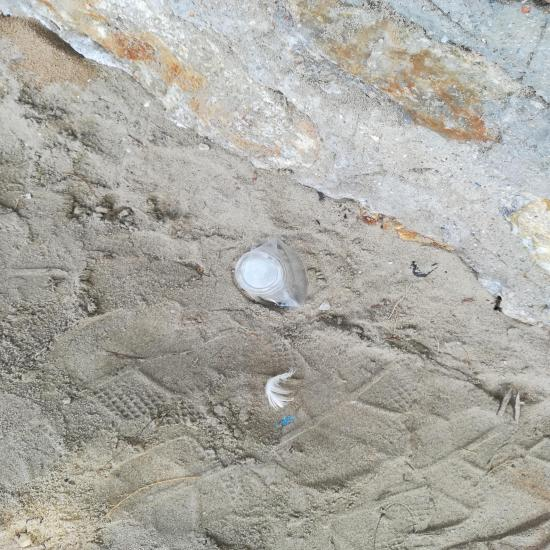Rope - strings: (399, 145, 412, 230)
Styrofoam piece: (248, 183, 397, 294), (100, 236, 266, 319)
